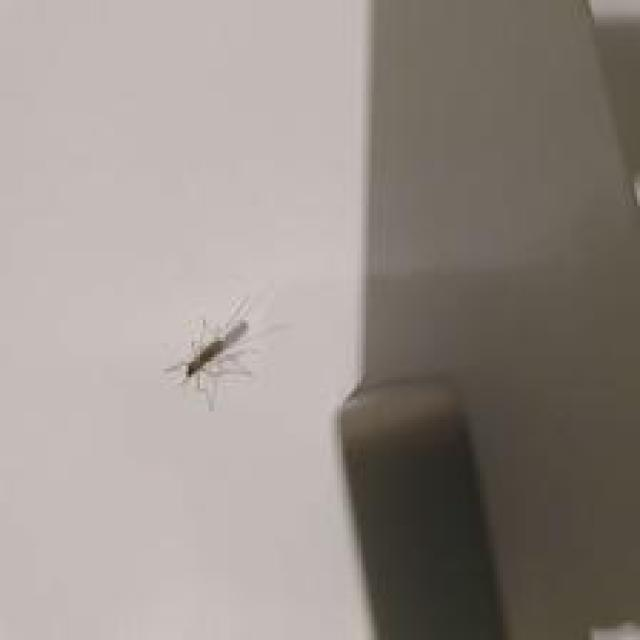Culex: (161, 294, 256, 412)
